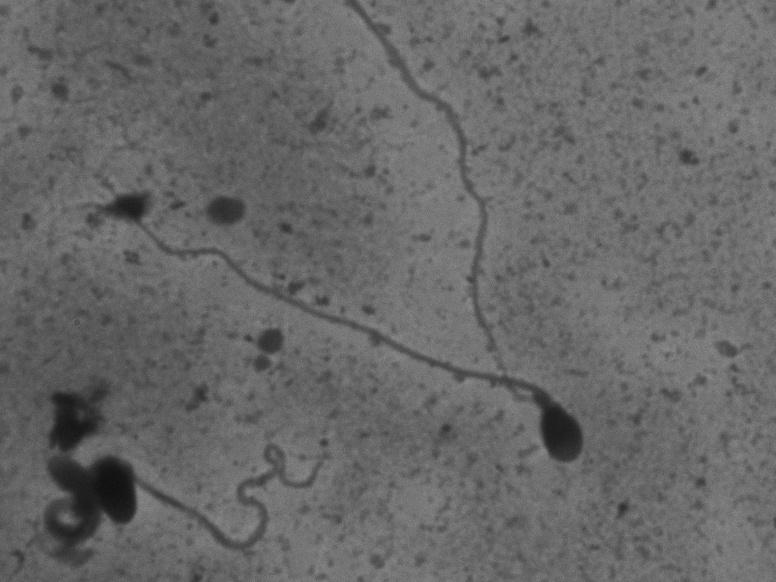Abnormal: (91, 398, 330, 566)
Normal: (97, 163, 595, 473)
